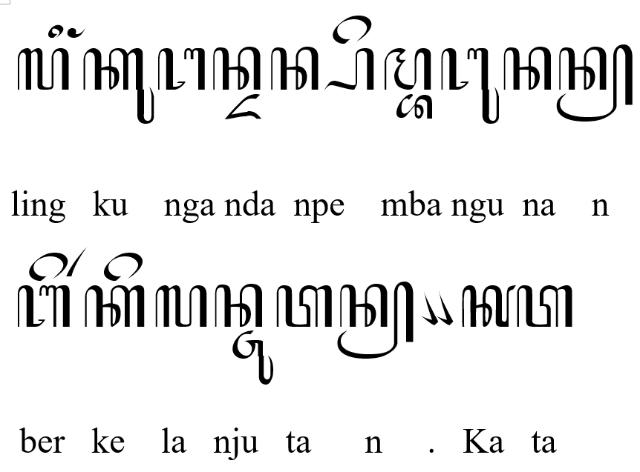-n: (337, 280, 415, 361), (556, 43, 634, 123)
K: (460, 284, 516, 328)
_b: (396, 94, 434, 120)
_d: (223, 94, 261, 120)
_ju: (231, 330, 275, 386)
_p: (322, 48, 374, 90)
_r1: (66, 247, 88, 277)
b: (17, 284, 72, 329)
e: (332, 14, 372, 44), (29, 252, 69, 282), (103, 252, 143, 282)
i: (46, 24, 64, 38)
k: (83, 284, 145, 329)
kom: (421, 292, 439, 326), (436, 292, 454, 326)
ku: (83, 47, 155, 125)
l: (154, 284, 208, 328), (17, 48, 71, 90)
m: (383, 48, 431, 90)
n: (270, 46, 320, 92), (503, 46, 553, 92), (214, 284, 264, 329), (212, 46, 260, 90)
ng: (66, 27, 85, 39)
nga: (157, 46, 206, 90)
ngu: (440, 46, 500, 126)
t: (276, 284, 332, 330), (516, 286, 574, 329)
